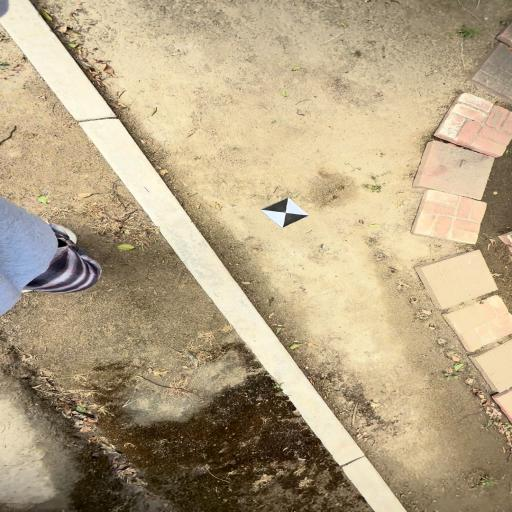target: (261, 198, 308, 228)
